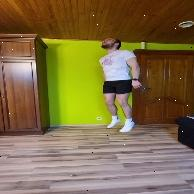high_jumps: (90, 29, 148, 138)
